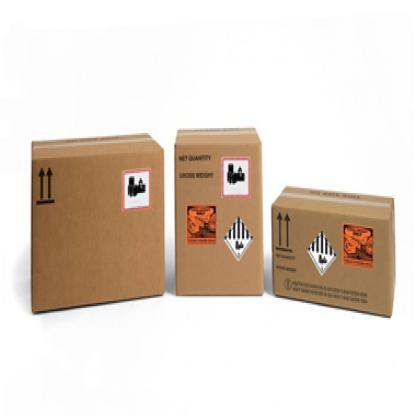label: (342, 225, 374, 270), (224, 217, 254, 262), (308, 230, 336, 275), (186, 206, 217, 246), (121, 171, 149, 211), (222, 159, 248, 197)
package: (31, 134, 167, 314), (272, 186, 396, 316), (175, 126, 264, 295)
